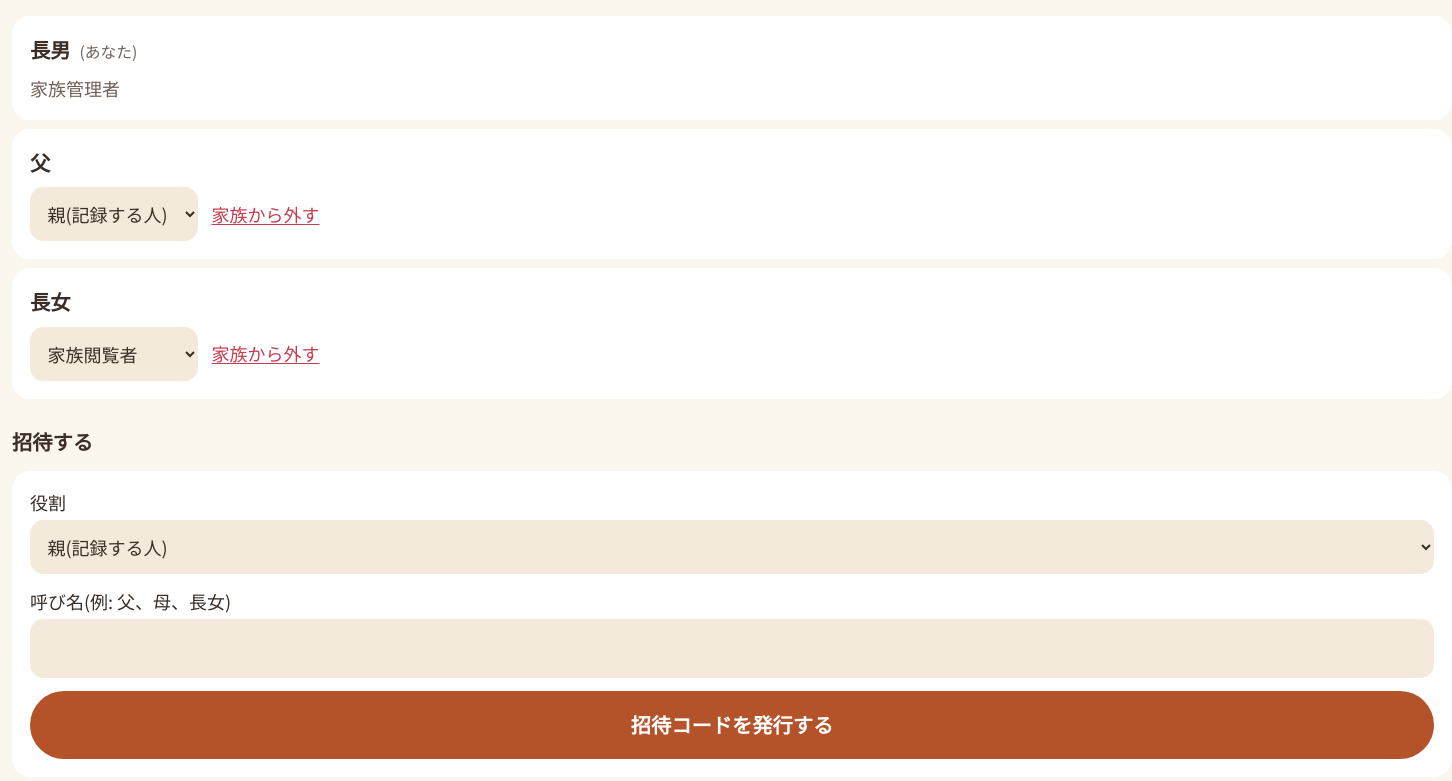
FamilyView(家族管理者) › 招待コードを発行して表示する
The width and height of the screenshot is (1452, 781).
expect the text "父" is shown: met, box left=30, top=148, right=50, bottom=176
Select "親(記録する人)" in the dropdown labelled "役割" at (732, 547), box left=30, top=520, right=1434, bottom=574
Type "母" into the field labelled "呼び名(例: 父、母、長女)" at (732, 648), box left=30, top=619, right=1434, bottom=678
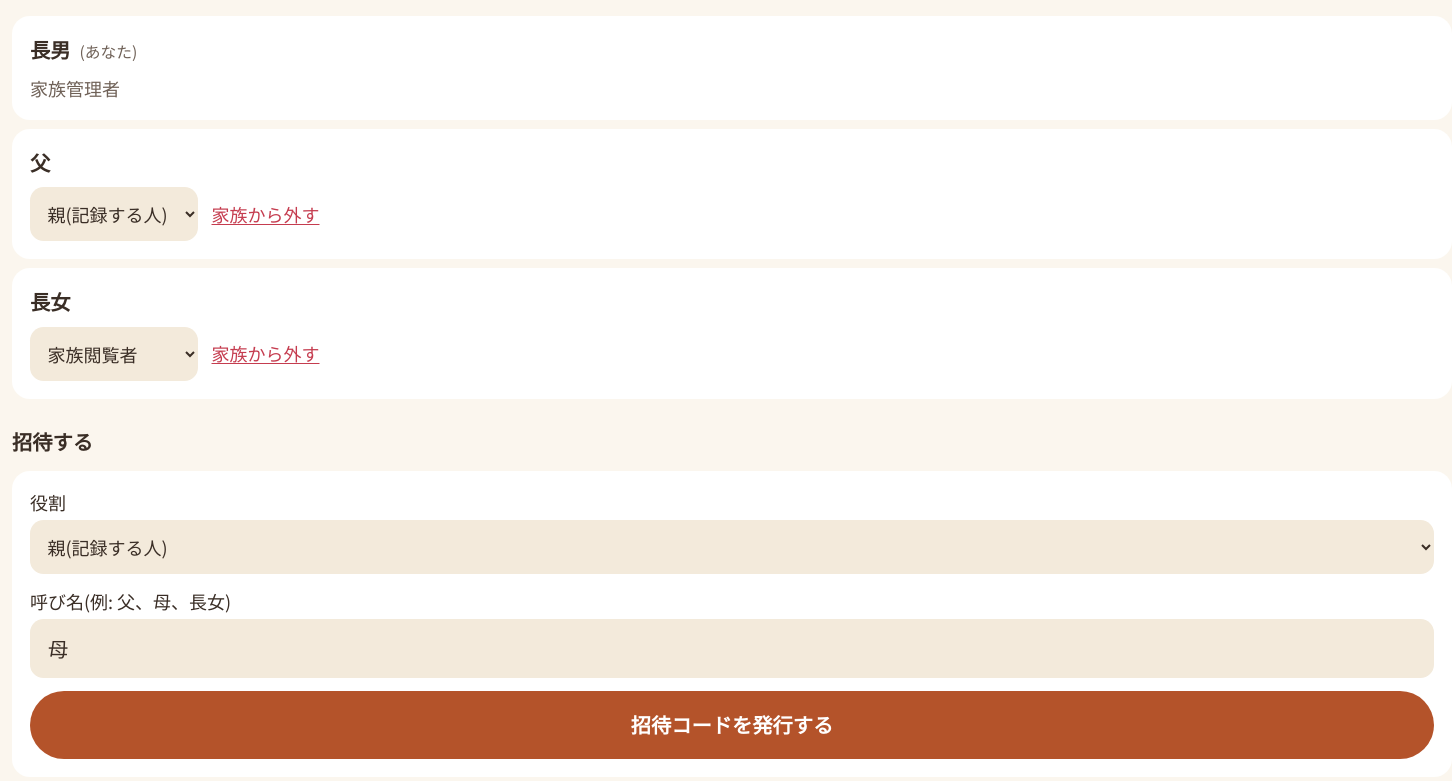
Click the button "招待コードを発行する" at (732, 725), box left=30, top=691, right=1434, bottom=758
(page scrolled)
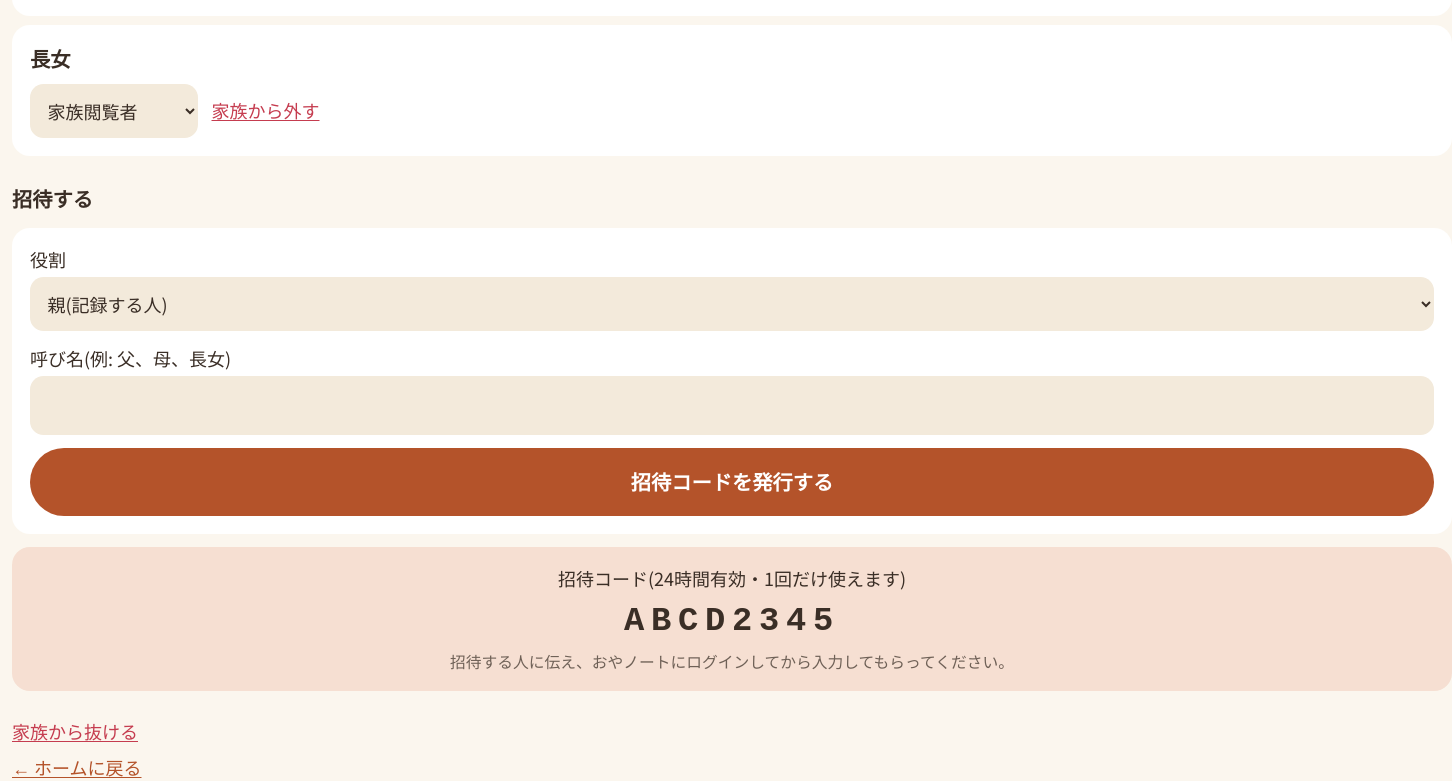
expect the text "ABCD2345" is shown: met, box left=624, top=602, right=840, bottom=640
